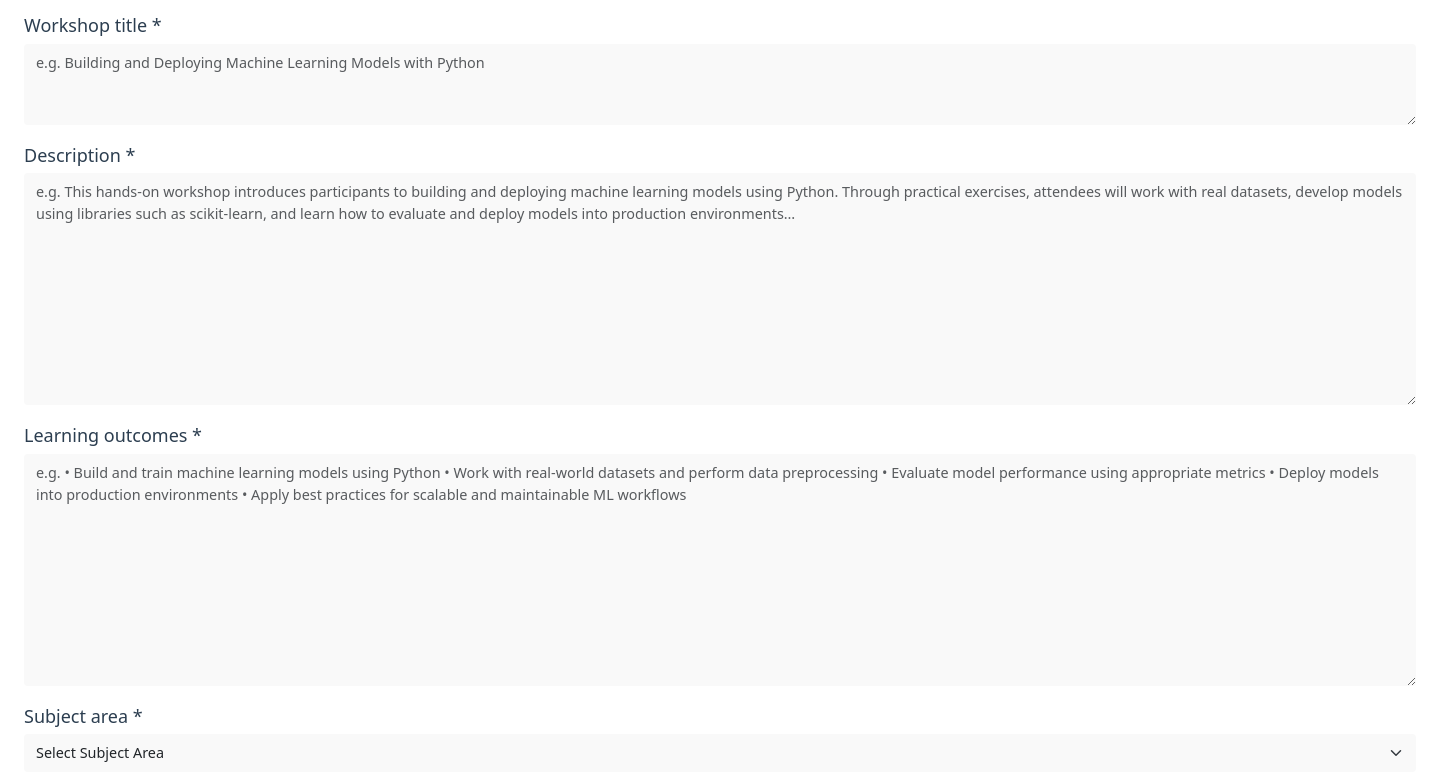
CourseSubmissionForm Component › enables subject dropdown when subject area is selected
The image size is (1440, 776).
Select "Software Engineering" in the dropdown labelled "Subject area *": (720, 753) 24,734 -> 1416,772
(page scrolled)
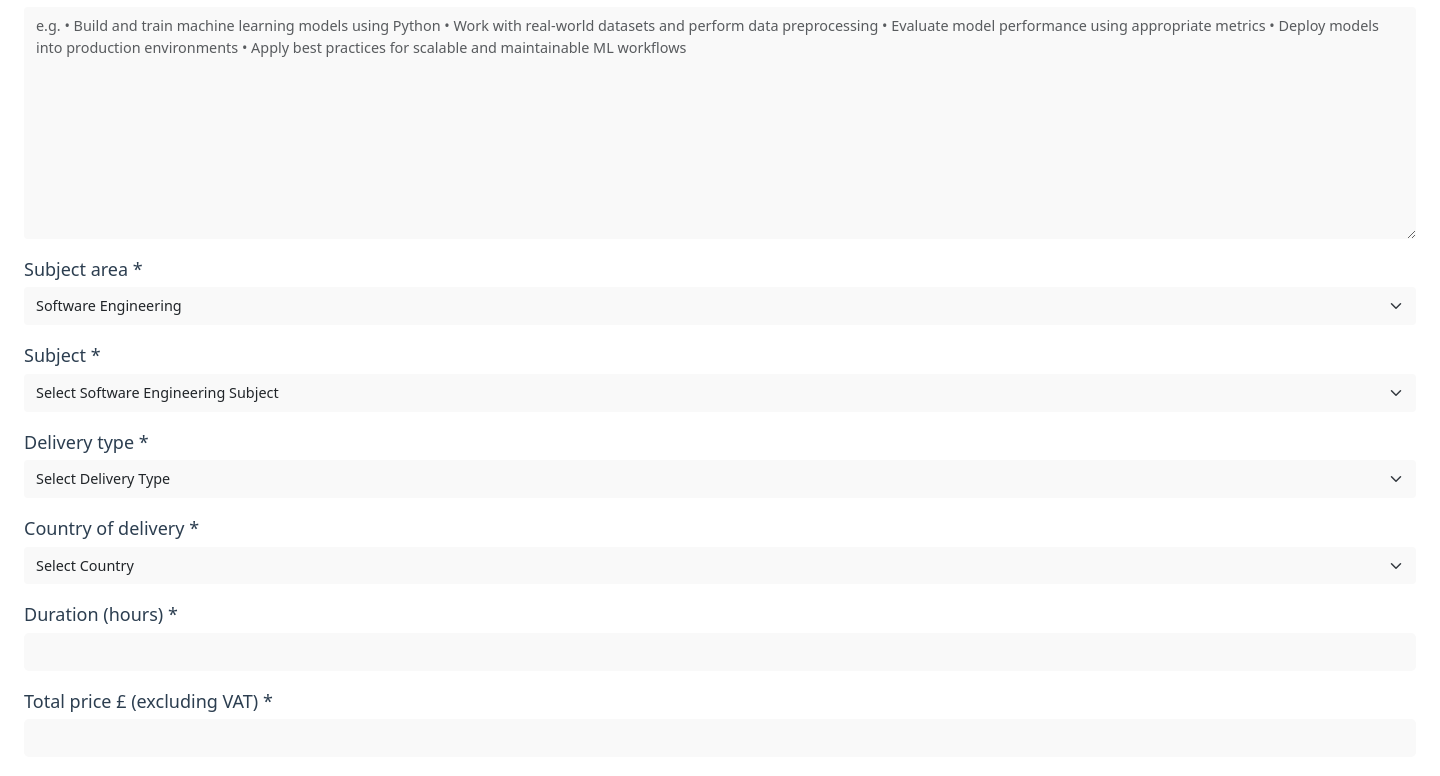
Expected: the dropdown labelled "Subject *" is enabled, 24,374 -> 1416,412
